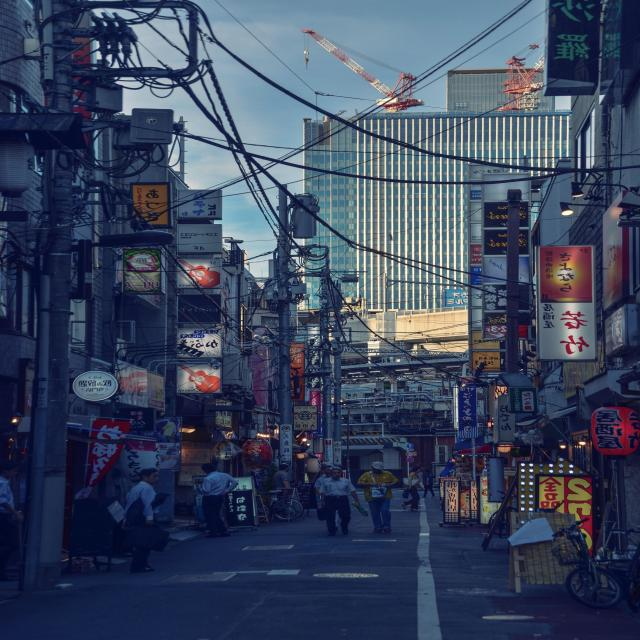adult: (114, 465, 165, 579), (316, 466, 364, 540), (196, 462, 239, 539), (358, 461, 399, 535), (398, 465, 422, 514)
